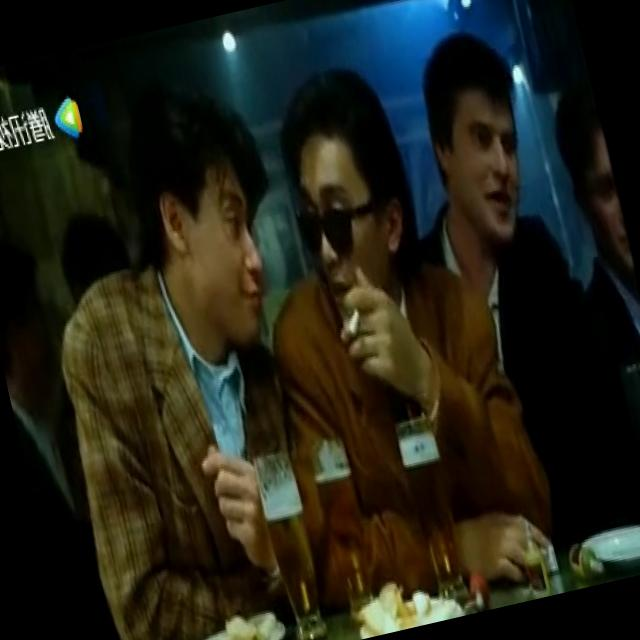smoke: (342, 298, 370, 344)
